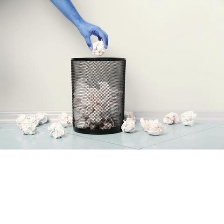book: (67, 74, 121, 132), (10, 107, 51, 136), (136, 114, 167, 139), (87, 38, 111, 55), (179, 109, 198, 130), (44, 121, 67, 138), (118, 116, 138, 133), (54, 108, 71, 126), (161, 109, 179, 125), (124, 108, 137, 123)
